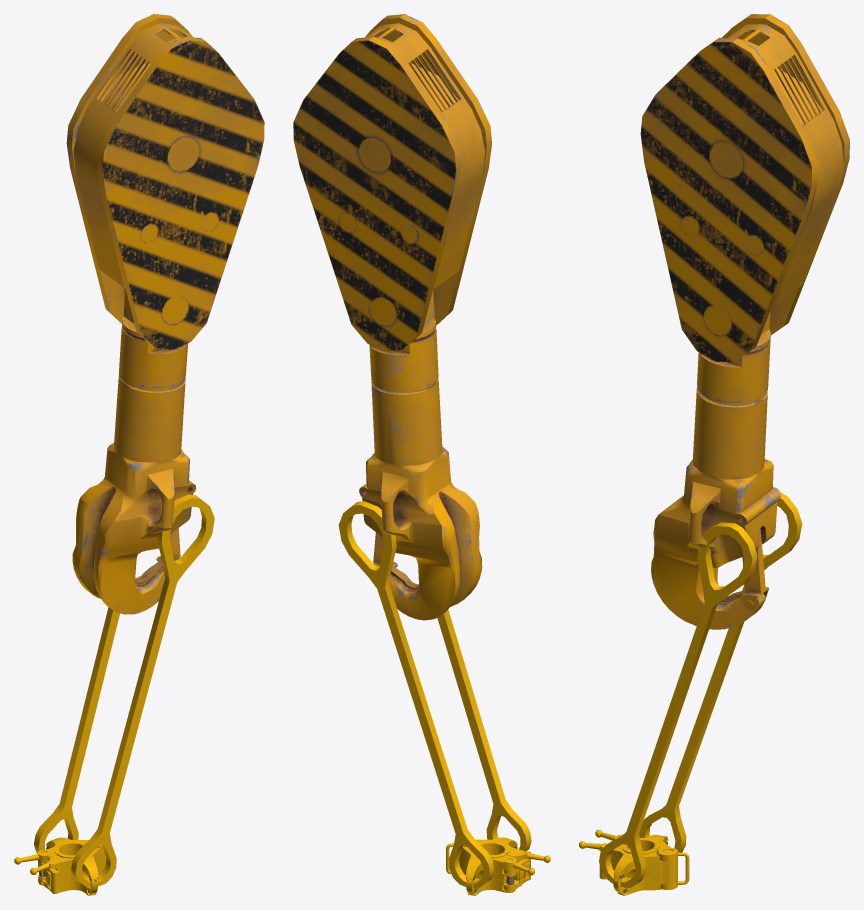
File: Elevator.glb
3 renders of one model, left to right at view 1: azimuth 30°, elevation 25°; view 2: azimuth 150°, elevation 25°; view 3: azimuth 330°, elevation 25°, orthographic. The views are drawn at different scales.
Parts seen in each view (by area): view 1: Sides_low, Core_low, Handle01_low.002, Rupush_low, Handle01_low002, Elevator, RightHandle_low, LeftHandle_low, Ghaltak_low; view 2: Sides_low, Core_low, Handle01_low002, Rupush_low, Handle01_low.002, Elevator, LeftHandle_low, RightHandle_low, Ghaltak_low; view 3: Sides_low, Core_low, Rupush_low, Handle01_low.002, Handle01_low002, Elevator, RightHandle_low, LeftHandle_low, Ghaltak_low.
Part boxes in pixels (x1=…): Sides_low: x1=66, y1=14, x2=264, y2=350; Core_low: x1=72, y1=375, x2=196, y2=614; Handle01_low.002: x1=71, y1=494, x2=214, y2=887; Rupush_low: x1=73, y1=23, x2=193, y2=287; Handle01_low002: x1=34, y1=607, x2=119, y2=852; Elevator: x1=118, y1=316, x2=187, y2=388; RightHandle_low: x1=30, y1=848, x2=106, y2=895; LeftHandle_low: x1=14, y1=837, x2=103, y2=885; Ghaltak_low: x1=99, y1=63, x2=150, y2=112; Sides_low: x1=293, y1=14, x2=491, y2=351; Core_low: x1=359, y1=378, x2=482, y2=620; Handle01_low002: x1=338, y1=501, x2=494, y2=888; Rupush_low: x1=364, y1=23, x2=485, y2=289; Handle01_low.002: x1=437, y1=609, x2=531, y2=851; Elevator: x1=369, y1=318, x2=438, y2=390; LeftHandle_low: x1=446, y1=843, x2=534, y2=895; RightHandle_low: x1=459, y1=837, x2=550, y2=880; Ghaltak_low: x1=408, y1=63, x2=458, y2=112; Sides_low: x1=640, y1=14, x2=849, y2=362; Core_low: x1=651, y1=387, x2=780, y2=629; Rupush_low: x1=727, y1=24, x2=843, y2=304; Handle01_low.002: x1=599, y1=522, x2=757, y2=887; Handle01_low002: x1=639, y1=492, x2=802, y2=852; Elevator: x1=697, y1=329, x2=770, y2=403; RightHandle_low: x1=579, y1=841, x2=677, y2=895; LeftHandle_low: x1=595, y1=830, x2=689, y2=889; Ghaltak_low: x1=772, y1=68, x2=822, y2=218.
Bounding box in the file's own units: 8.26 × 28.77 × 3.59.
3 materials, 2 textured.
